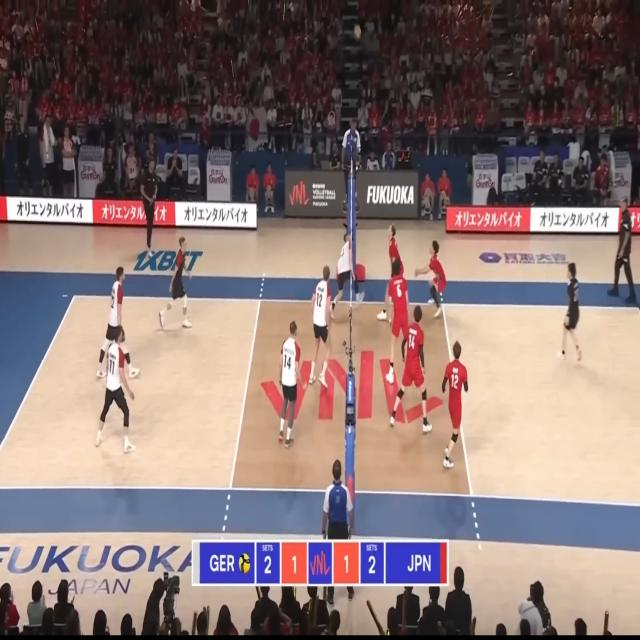ball: (354, 25, 360, 39)
